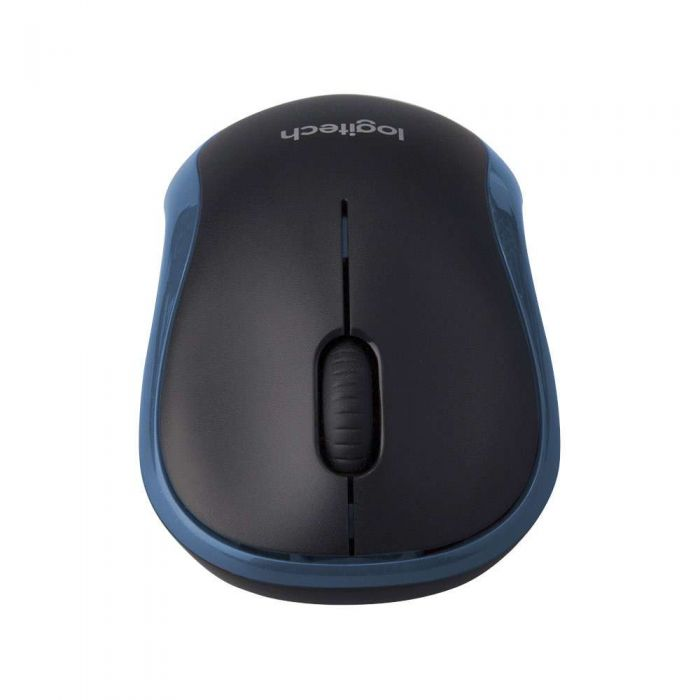logitech-mouse-m185: (128, 85, 576, 609)
